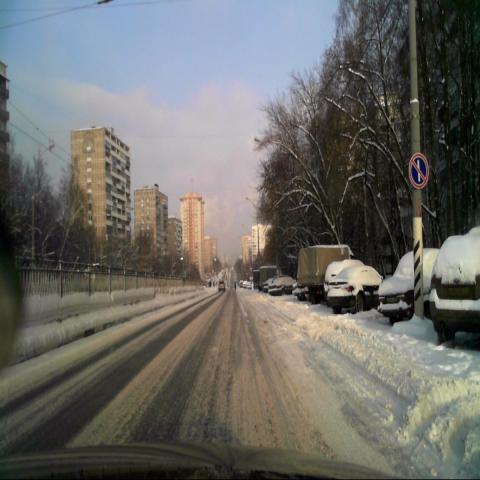3_29: (407, 149, 430, 193)
